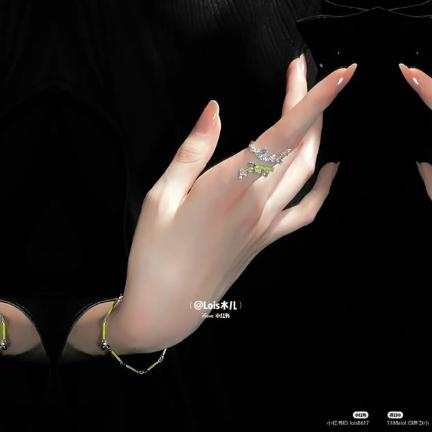Nail: (194, 100, 219, 134), (334, 63, 357, 95), (399, 63, 422, 95), (299, 53, 307, 79)
